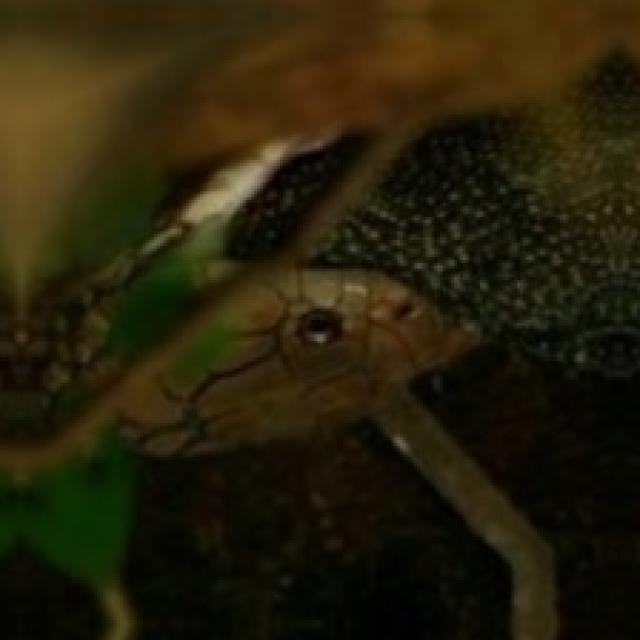king cobra: (309, 54, 637, 637), (126, 420, 509, 637), (229, 143, 349, 254)
